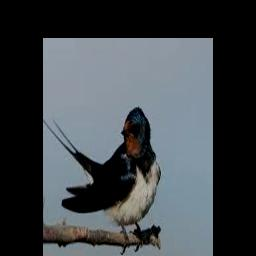Swallow: (43, 107, 160, 250)
